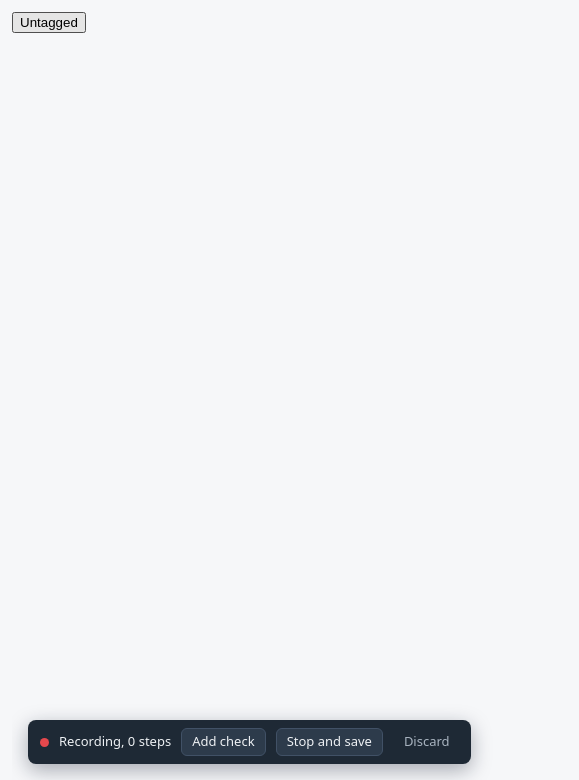
Test: RecorderBadgeComponent › shows the untagged count
Click the button "Untagged" at x=49, y=22, box [12,12,86,33]
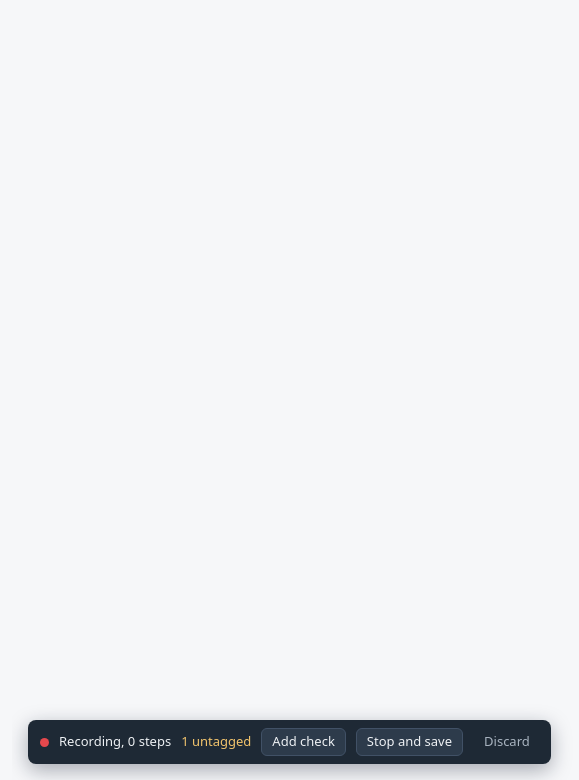
Expected: the text "1 untagged" is shown, [181,734,251,751]
